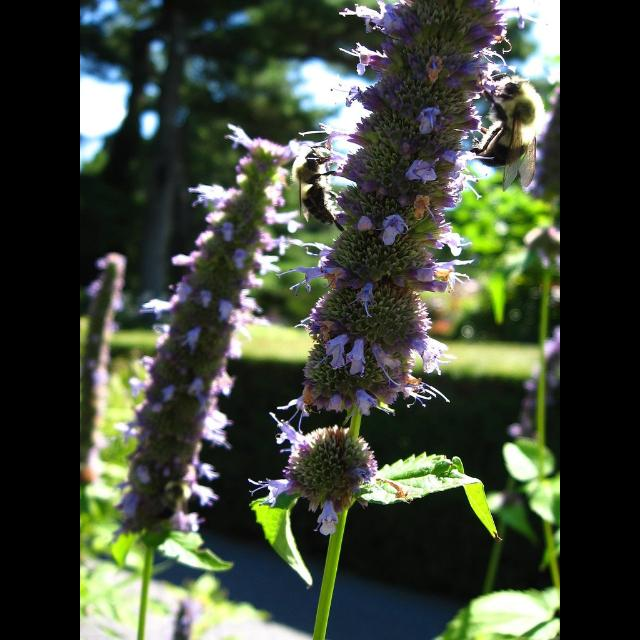Flower: (293, 0, 513, 416), (110, 121, 288, 535), (260, 412, 372, 534), (80, 262, 124, 484)
